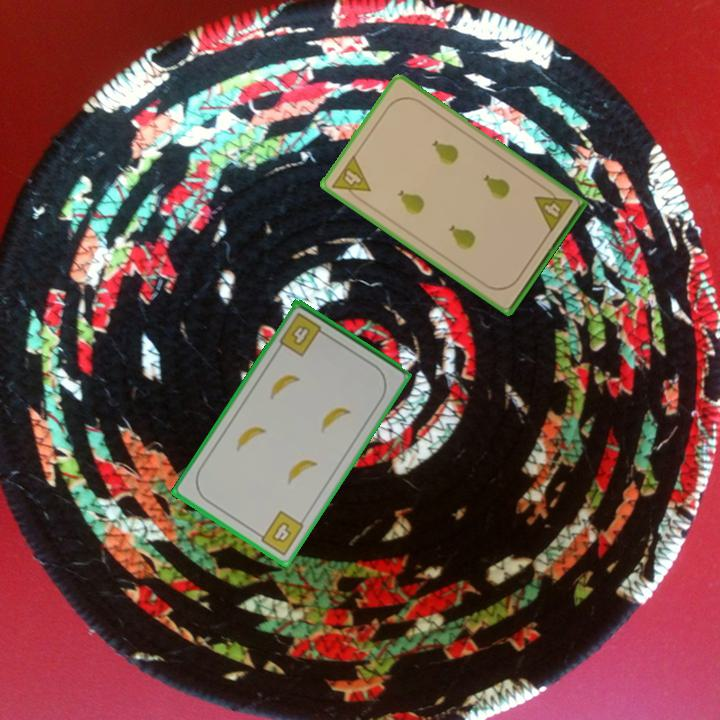4b: (252, 507, 307, 558), (276, 309, 330, 360)
4p: (328, 151, 373, 205), (531, 183, 575, 235)
